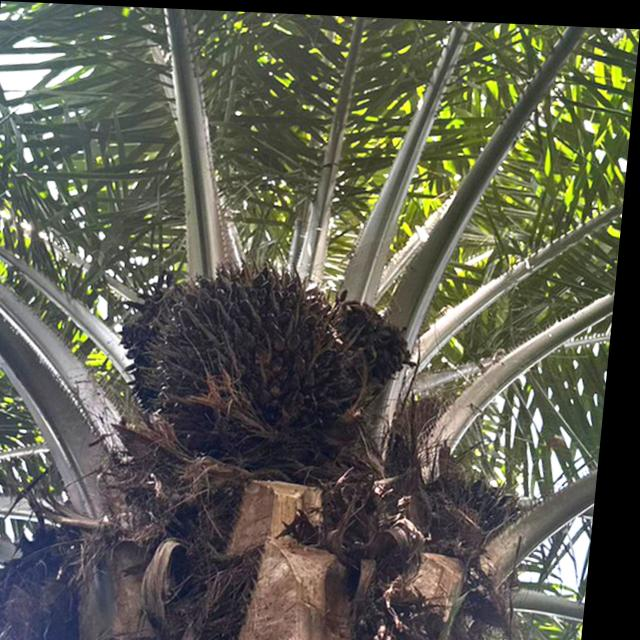ripe: (139, 252, 408, 460)
